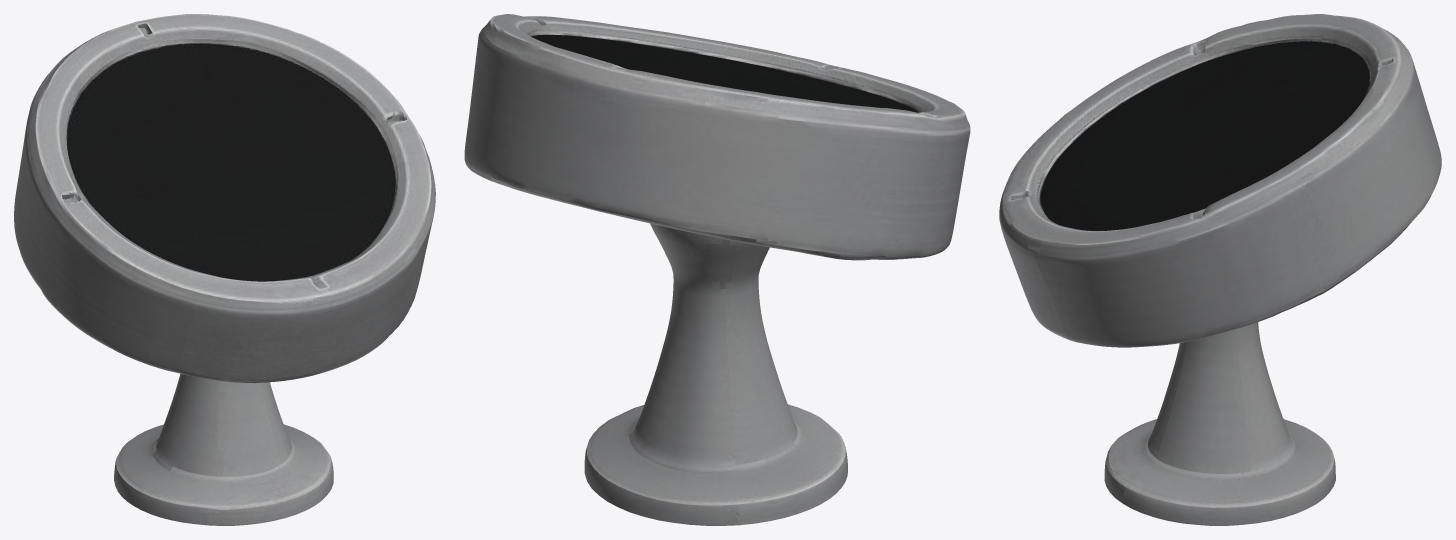
Rendered from console.glb.
3 views of the same model, side by side, from view 1: azimuth 30°, elevation 25°; view 2: azimuth 150°, elevation 25°; view 3: azimuth 270°, elevation 25° (orthographic). The views are drawn at different scales.
Visible parts, largest first — view 1: Mesh0; view 2: Mesh0; view 3: Mesh0.
Boxes of the visible parts, x1,y1,x2,y2 form: Mesh0: (14,14,435,525); Mesh0: (464,14,970,525); Mesh0: (999,14,1441,525).
Bounding box in the file's own units: 1.81 × 1.9 × 1.82.
Materials: 1 (1 with a texture image).
